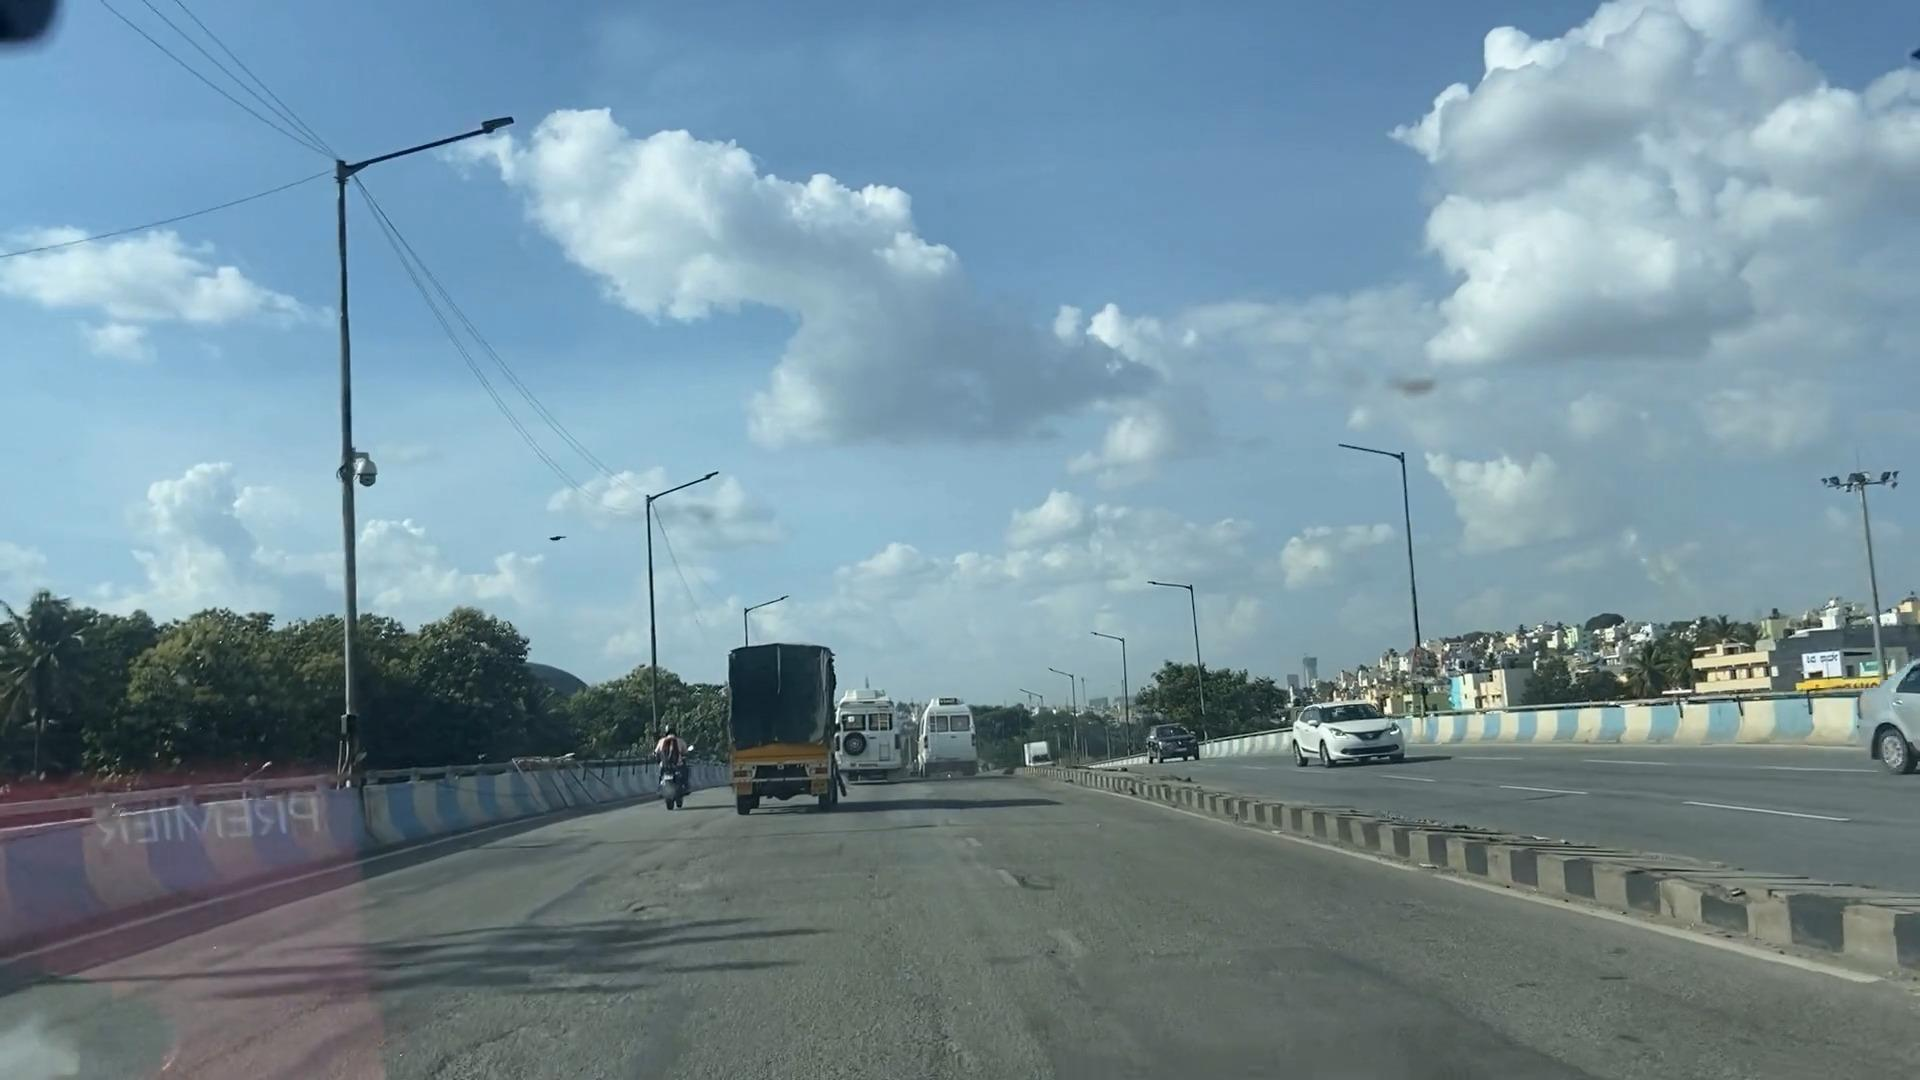HMV: (712, 634, 846, 799), (820, 670, 902, 779), (906, 678, 967, 783)
LMV: (636, 698, 700, 807)
RoadDamages: (1096, 876, 1471, 1072), (438, 900, 727, 1080), (842, 850, 1054, 1074)
